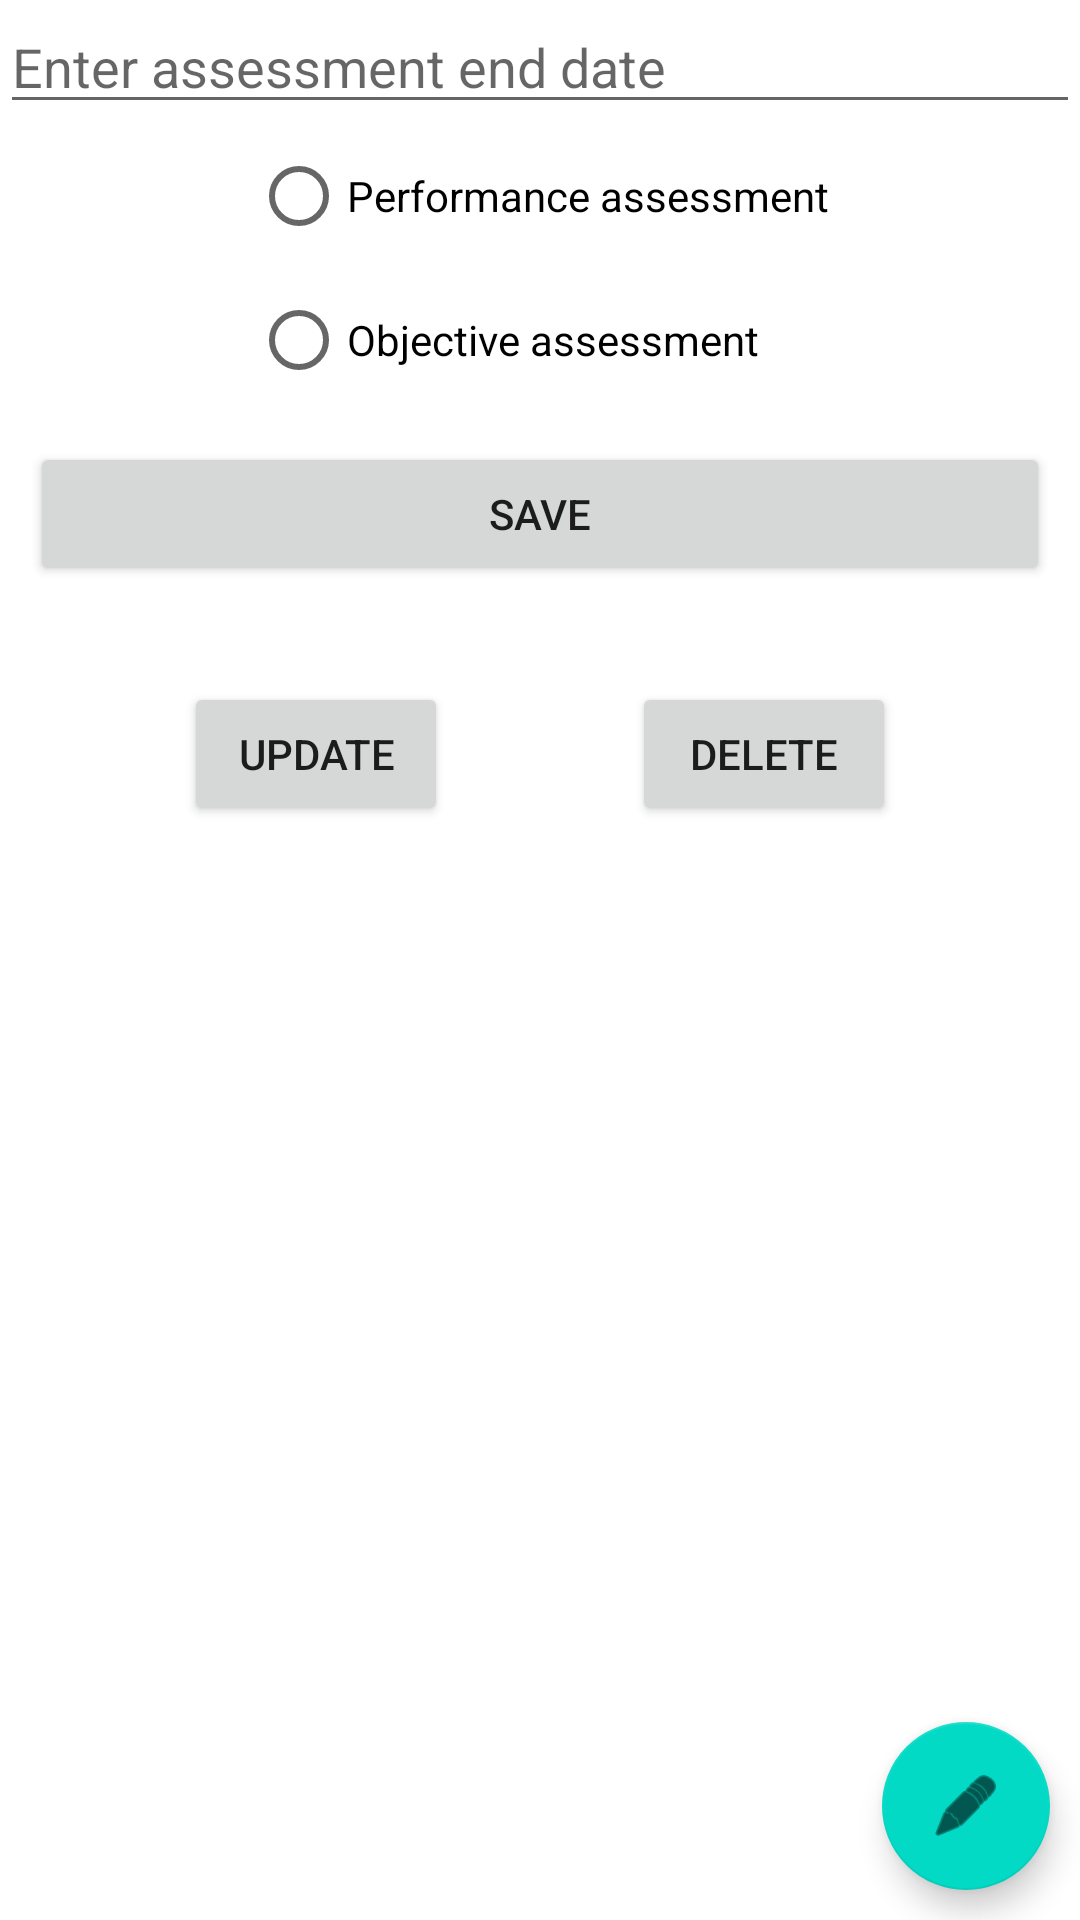

Point at icon controls on the screen. Image size 1080 × 1920, points as [x,y].
Edit: [966,1806]
